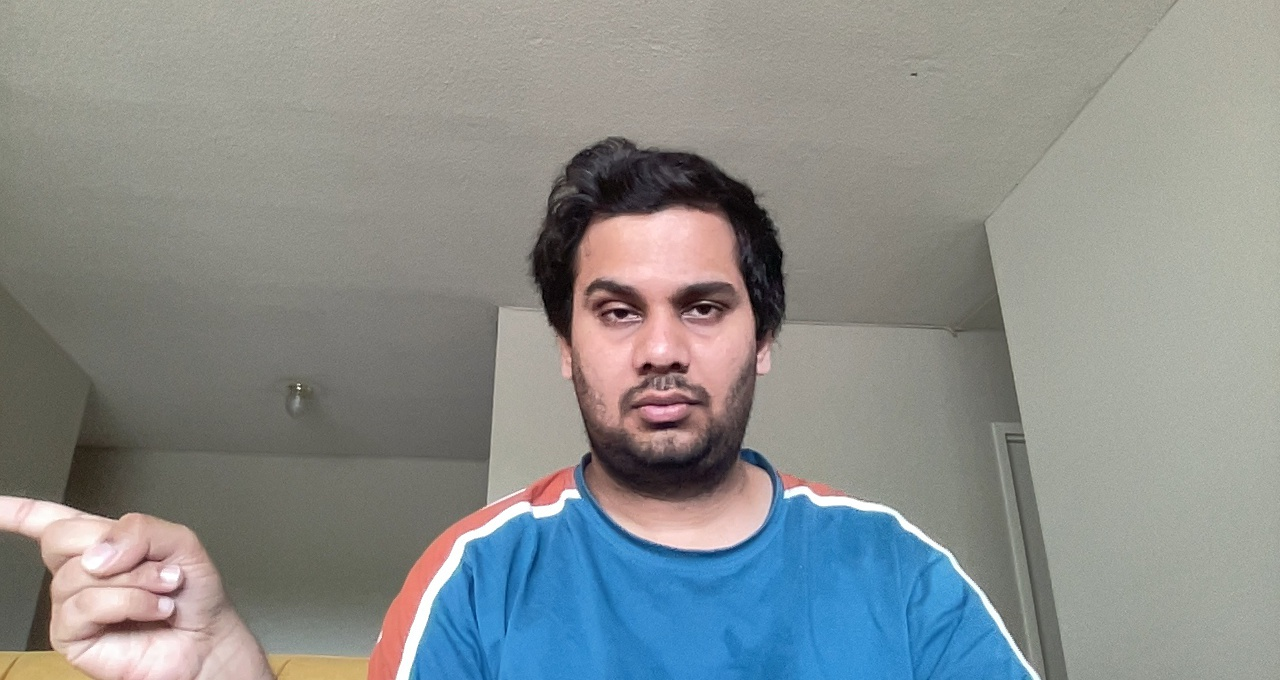fingerright: (1, 490, 275, 677)
